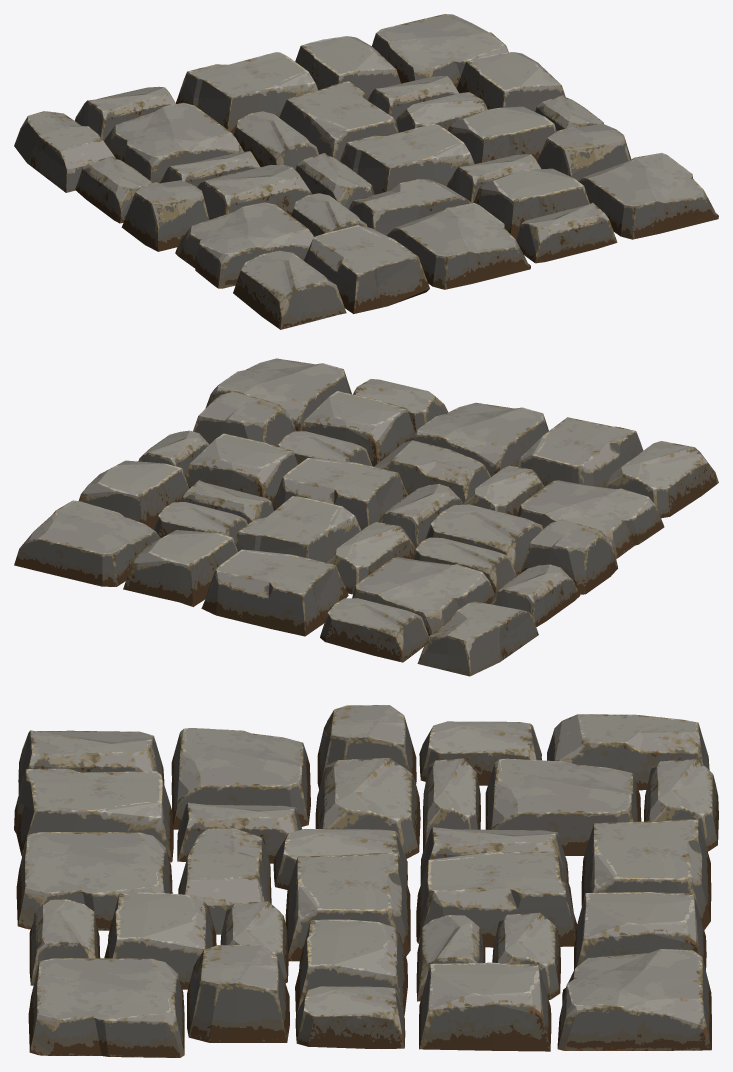
File: RockPath_Square_Wide__go_coast.glb
The picture shows the model from 3 angles, top to bottom: view 1: azimuth 30°, elevation 25°; view 2: azimuth 150°, elevation 25°; view 3: azimuth 270°, elevation 25°; orthographic projection. The views are drawn at different scales.
Parts seen in each view (by area): view 1: RockPath_Square_Wide; view 2: RockPath_Square_Wide; view 3: RockPath_Square_Wide.
Boxes of the visible parts, x1=… form: RockPath_Square_Wide: x1=14, y1=14, x2=718, y2=329; RockPath_Square_Wide: x1=14, y1=358, x2=718, y2=676; RockPath_Square_Wide: x1=14, y1=705, x2=718, y2=1057.
Bounding box in the file's own units: 2.05 × 0.1763 × 1.99.
1 material, 1 textured.
